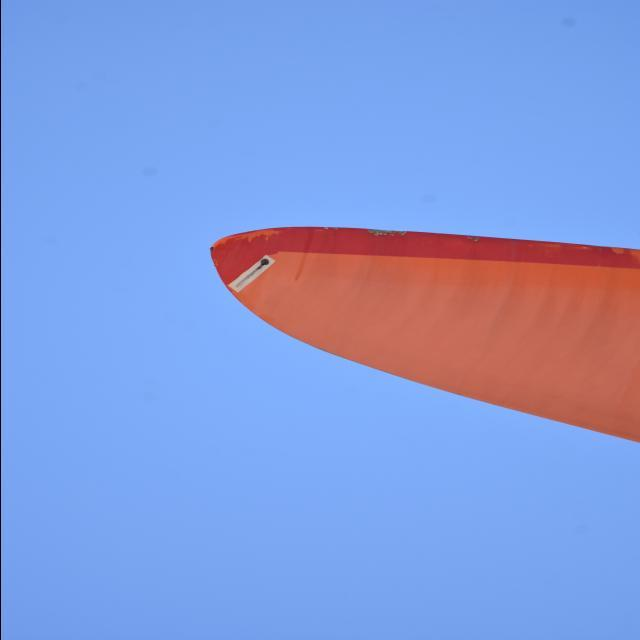Burn Mark: (236, 257, 270, 290)
EROSION: (359, 225, 421, 238)
